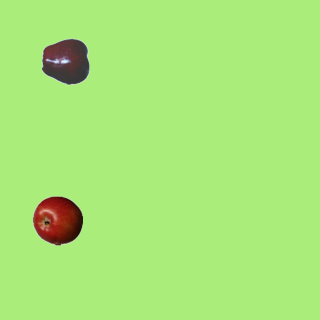Apple Braeburn: (32, 195, 82, 245)
Apple Red Delicious: (41, 36, 91, 86)
